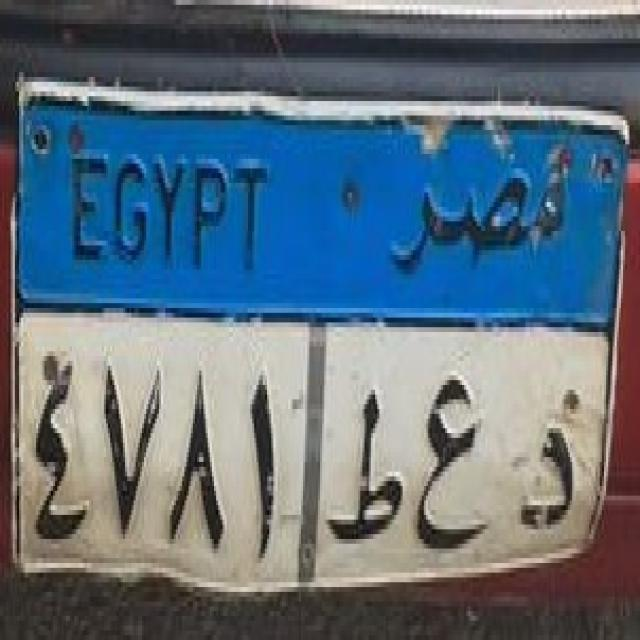1: (237, 367, 296, 567)
4: (26, 339, 94, 562)
7: (90, 355, 166, 545)
8: (168, 360, 240, 560)
Een: (407, 370, 492, 562)
Taa: (330, 376, 410, 554)
daal: (518, 393, 588, 546)
